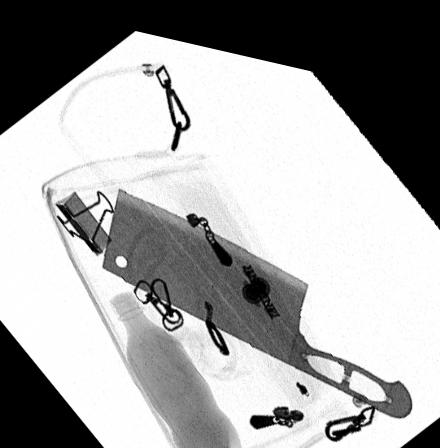Knife: (101, 180, 413, 398)
